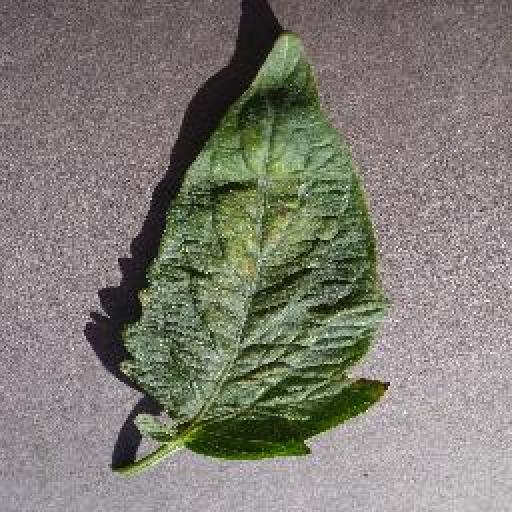disease_tomato: (120, 28, 392, 460)
